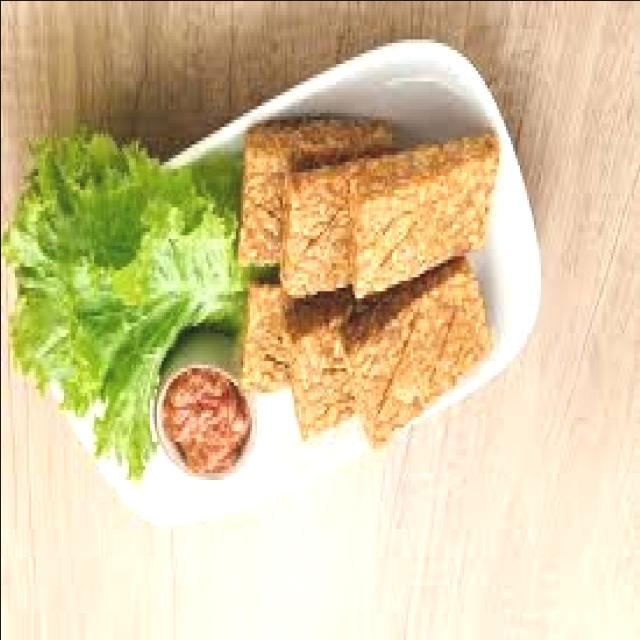tempe goreng: (340, 255, 491, 448), (347, 136, 498, 297)
